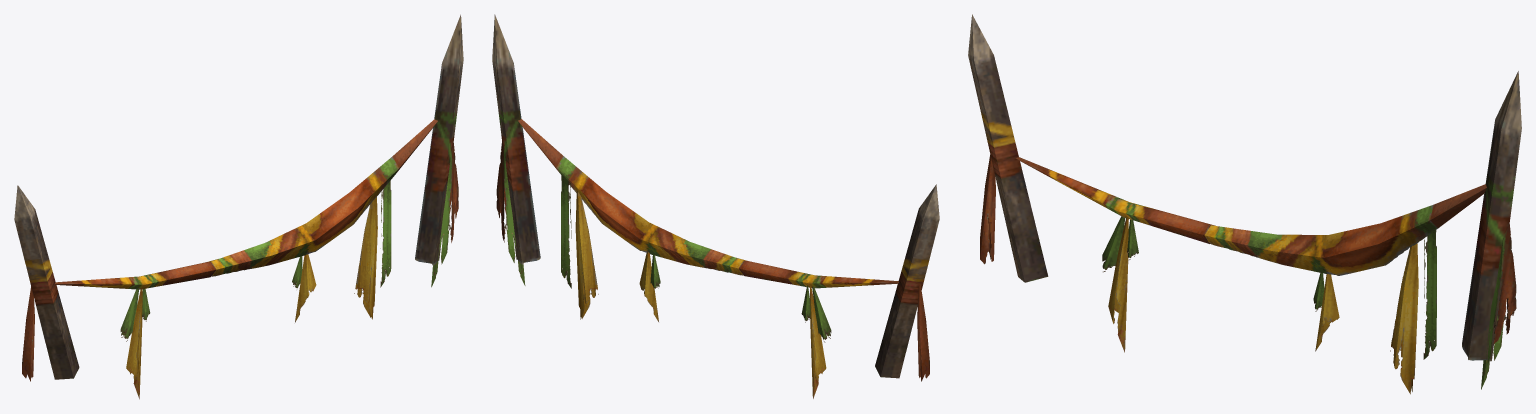
File: 7001_Item_wujian_7.FBX
3 views of the same model, side by side, from view 1: azimuth 30°, elevation 25°; view 2: azimuth 150°, elevation 25°; view 3: azimuth 330°, elevation 25° (orthographic). The views are drawn at different scales.
Visible parts, largest first — view 1: 7001_Item_wujian_7; view 2: 7001_Item_wujian_7; view 3: 7001_Item_wujian_7.
Boxes of the visible parts, box(x1,y1,x2,y2) form: 7001_Item_wujian_7: box(14, 14, 463, 399); 7001_Item_wujian_7: box(492, 14, 939, 398); 7001_Item_wujian_7: box(968, 14, 1521, 394).
Bounding box in the file's own units: 394 × 258 × 20.28.
